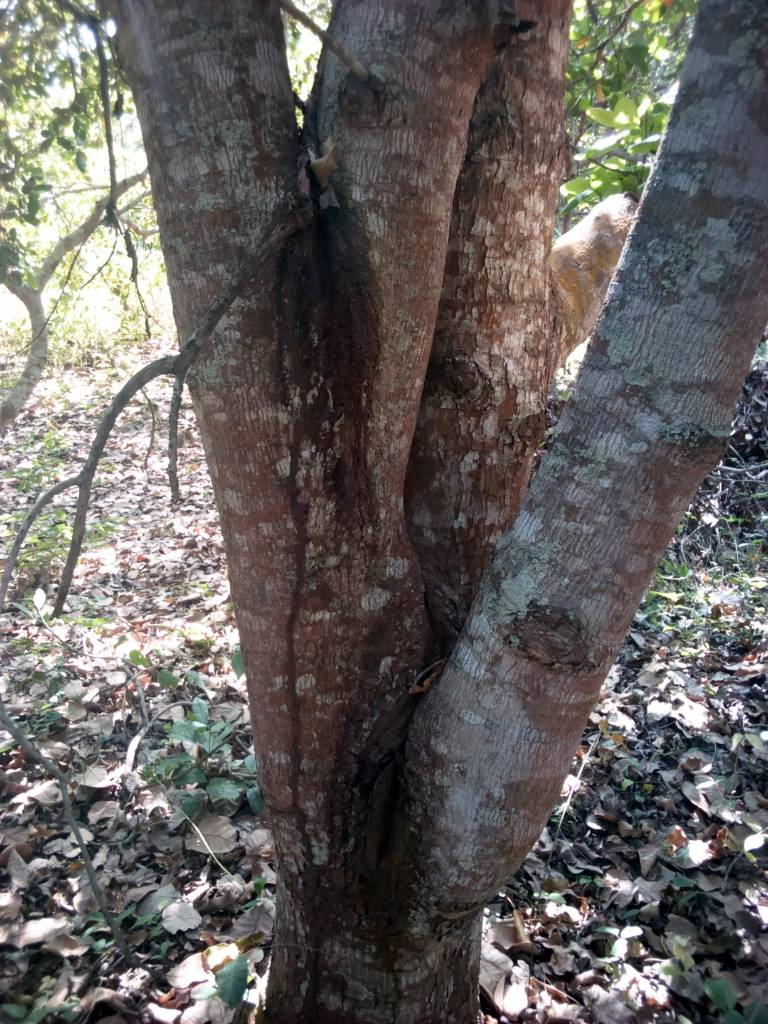Termites: (274, 189, 385, 497), (285, 552, 330, 1011)
